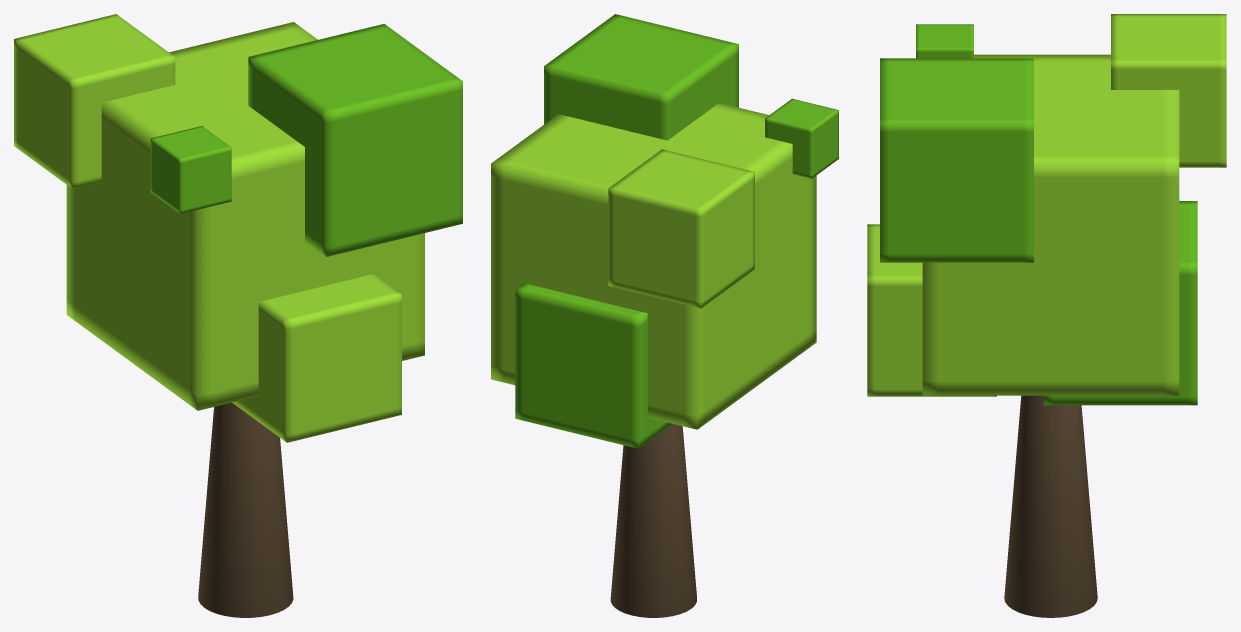
File: lowpoly_tree.glb
3 renders of one model, left to right at view 1: azimuth 30°, elevation 25°; view 2: azimuth 150°, elevation 25°; view 3: azimuth 270°, elevation 25°, orthographic. The views are drawn at different scales.
Parts seen in each view (by area): view 1: Cube.006, Cube.002, Cube.001, Cube.004, Cylinder, Cube.003; view 2: Cube.006, Cube.004, Cube.005, Cube.002, Cylinder, Cube.003; view 3: Cube.006, Cube.002, Cylinder, Cube.004, Cube.001, Cube.005, Cube.003.
Part boxes in pixels (<box>): Cube.006: <box>66,22,424,410</box>; Cube.002: <box>248,24,462,256</box>; Cube.001: <box>232,274,401,442</box>; Cube.004: <box>14,14,175,189</box>; Cylinder: <box>198,402,293,617</box>; Cube.003: <box>150,126,231,213</box>; Cube.006: <box>491,103,816,429</box>; Cube.004: <box>608,149,754,308</box>; Cube.005: <box>515,283,672,448</box>; Cube.002: <box>544,14,738,140</box>; Cylinder: <box>610,424,696,617</box>; Cube.003: <box>765,98,838,178</box>; Cube.006: <box>922,54,1179,395</box>; Cube.002: <box>880,58,1033,262</box>; Cylinder: <box>1004,395,1097,617</box>; Cube.004: <box>1111,14,1226,167</box>; Cube.001: <box>867,224,996,396</box>; Cube.005: <box>1043,201,1197,405</box>; Cube.003: <box>916,24,973,58</box>.
Size of the model in its own units: 7.91 by 15.25 by 9.25.
